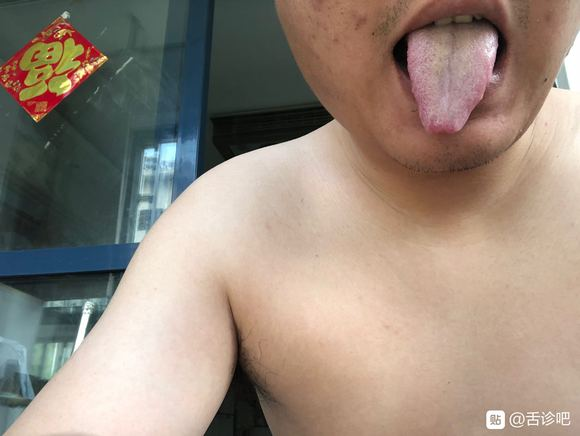chihenshe: (407, 70, 422, 121)
huangtaishe: (407, 20, 498, 135)
shoushe: (407, 20, 498, 135)
